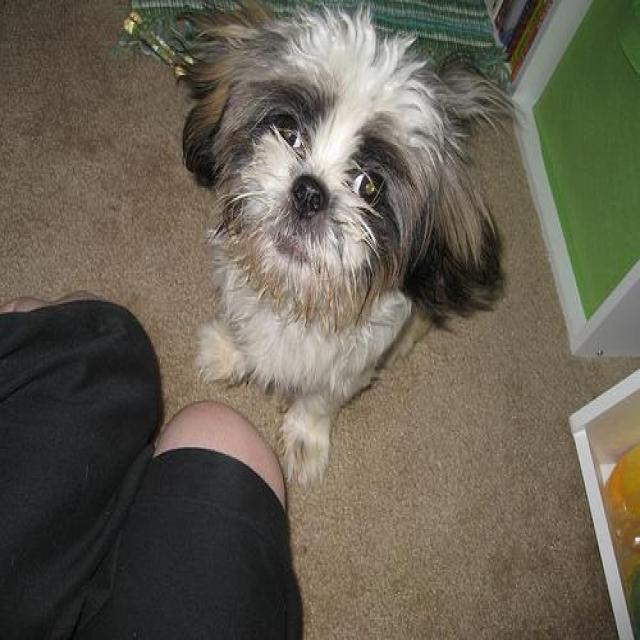shih_tzu: (174, 8, 516, 490)
